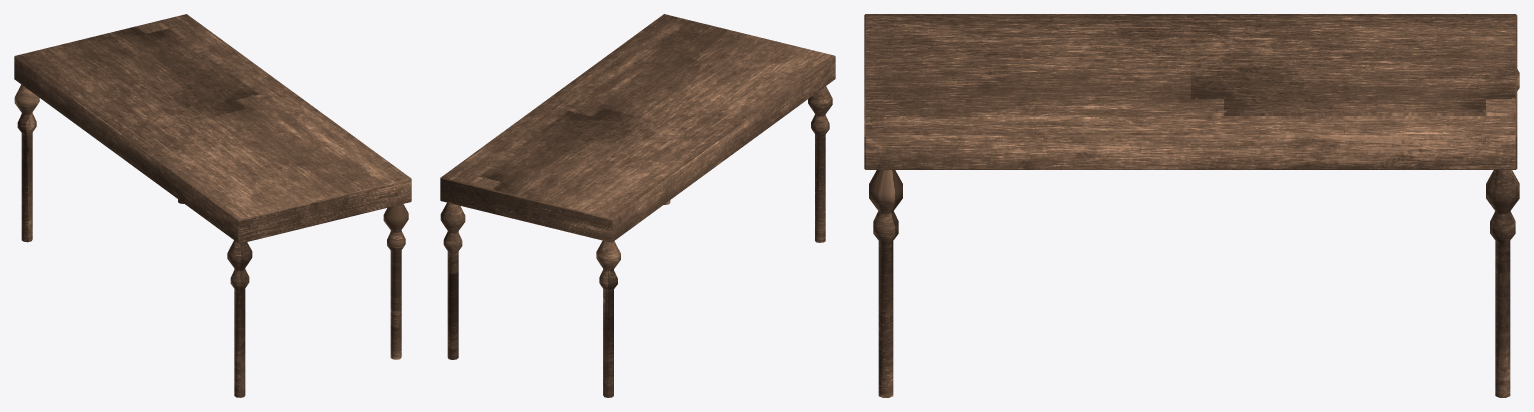
The model's file is TAble_LP.FBX.
3 renders of one model, left to right at view 1: azimuth 30°, elevation 25°; view 2: azimuth 150°, elevation 25°; view 3: azimuth 270°, elevation 25°, orthographic. The views are drawn at different scales.
Parts seen in each view (by area): view 1: Table; view 2: Table; view 3: Table.
Boxes of the visible parts, left/top/right/bottom form: Table: left=14, top=14, right=411, bottom=397; Table: left=440, top=14, right=835, bottom=397; Table: left=864, top=14, right=1519, bottom=397.
Bounding box in the file's own units: 40.72 × 40.27 × 90.36.
1 material, 1 textured.
